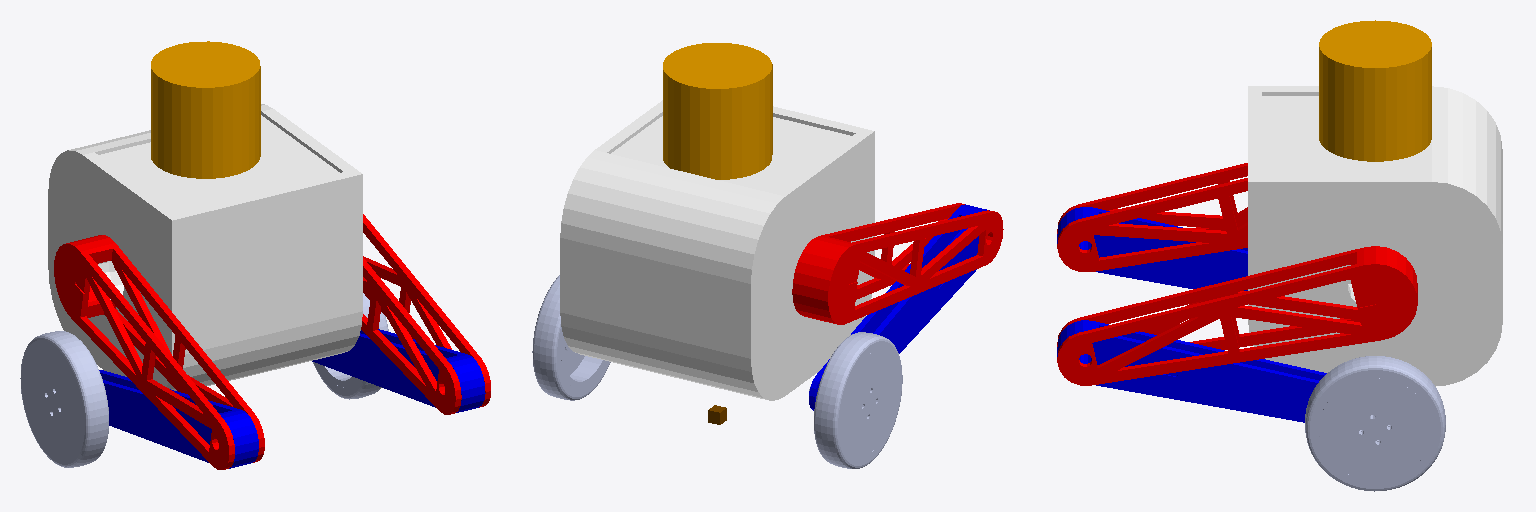
The robot description file, URDF, robot "wbrobot":
<?xml version="1.0" encoding="utf-8"?>
<!-- This URDF was automatically created by SolidWorks to URDF Exporter! Originally created by [author] ([email redacted]) 
     Commit Version: 1.6.0-1-g15f4949  Build Version: 1.6.7594.29634
     For more information, please see http://wiki.ros.org/sw_urdf_exporter -->
<robot
  name="wbrobot">
  <link name="world_link" >
    <visual>
        <geometry>
            <box size = "0.01 0.01 0.01" />
        </geometry>
        <origin xyz="0 0 0" rpy="0 0 0"/>
        <material name="yellow">
            <color rgba="0.5 0.3 0 0.5"/>
        </material>
        
    </visual>
    <!--collision>
      <origin
        xyz="0 0 0"
        rpy="0 0 0" />
      <geometry>
        <box size = "1 1 0.01" />
      </geometry>
    </collision-->
  </link>
  <link
    name="base_link">
    <inertial>
      <origin
        xyz="-1.5843E-17 -0.0018258 -0.00076631"
        rpy="0 0 0" />
      <mass
        value="8" />
      <inertia
        ixx="0.052838"
        ixy="0"
        ixz="0"
        iyy="0.04905"
        iyz="-0.0011035"
        izz="0.055787" />
    </inertial>
    <visual>
      <origin
        xyz="0 0 0"
        rpy="0 0 0" />
      <geometry>
        <mesh
          filename="package://robot_description/meshes/base_link.STL" />
      </geometry>
      <material
        name="">
        <color
          rgba="1 1 1 1" />
      </material>
    </visual>
    <collision>
      <origin
        xyz="0 0 0"
        rpy="0 0 0" />
      <geometry>
        <mesh
          filename="package://robot_description/meshes/base_link.STL" />
      </geometry>
    </collision>
  </link>

  <!--world_joint-->
  <joint name="world_joint" type="fixed">
    <origin xyz="0 0 0.13" rpy="0 0 0"/>
    <parent link="world_link"/>
    <child link="base_link"/>
  </joint>

  <link
    name="datui1_Link">
    <inertial>
      <origin
        xyz="0.015766 -0.072335 -3.2958E-05"
        rpy="0 0 0" />
      <mass
        value="0.090996" />
      <inertia
        ixx="0.00063669"
        ixy="5.1817E-06"
        ixz="0"
        iyy="3.9867E-05"
        iyz="-1.7891E-06"
        izz="0.00062095" />
    </inertial>
    <visual>
      <origin
        xyz="0 0 0"
        rpy="0 0 0" />
      <geometry>
        <mesh
          filename="package://robot_description/meshes/datui1_Link.STL" />
      </geometry>
      <material
        name="red">
        <color
          rgba="1 0 0 1" />
      </material>
    </visual>
    <collision>
      <origin
        xyz="0 0 0"
        rpy="0 0 0" />
      <geometry>
        <mesh
          filename="package://robot_description/meshes/datui1_Link.STL" />
      </geometry>
    </collision>
  </link>
  <joint
    name="datui1_joint"
    type="revolute">
    <origin
      xyz="-0.08 0 0"
      rpy="2.923 0 3.1416" />
    <parent
      link="base_link" />
    <child
      link="datui1_Link" />
    <axis
      xyz="-1 0 0" />
    <limit
      lower="0"
      upper="3.14"
      effort="200"
      velocity="20" />
  </joint>
  <link
    name="xiaotui1_Link">
    <inertial>
      <origin
        xyz="-0.010009 -0.087975 0"
        rpy="0 0 0" />
      <mass
        value="0.089561" />
      <inertia
        ixx="0.00045806"
        ixy="1.3763E-07"
        ixz="0"
        iyy="1.4234E-05"
        iyz="0"
        izz="0.00045351" />
    </inertial>
    <visual>
      <origin
        xyz="0 0 0"
        rpy="0 0 0" />
      <geometry>
        <mesh
          filename="package://robot_description/meshes/xiaotui1_Link.STL" />
      </geometry>
      <material
        name="blue">
        <color
          rgba="0 0 1 1" />
      </material>
    </visual>
    <collision>
      <origin
        xyz="0 0 0"
        rpy="0 0 0" />
      <geometry>
        <mesh
          filename="package://robot_description/meshes/xiaotui1_Link.STL" />
      </geometry>
    </collision>
  </link>
  <joint
    name="xiaotui1_joint"
    type="revolute">
    <origin
      xyz="0.005 -0.21 0"
      rpy="-0.43633 0 3.1416" />
    <parent
      link="datui1_Link" />
    <child
      link="xiaotui1_Link" />
    <axis
      xyz="-1 0 0" />
    <limit
      lower="0"
      upper="3.14"
      effort="200"
      velocity="20" />
  </joint>
  <link
    name="wheel1_Link">
    <inertial>
      <origin
        xyz="-0.033743 -4.0891E-11 -1.451E-11"
        rpy="0 0 0" />
      <mass
        value="0.10249" />
      <inertia
        ixx="0.00015426"
        ixy="0"
        ixz="0"
        iyy="8.0659E-05"
        iyz="0"
        izz="8.066E-05" />
    </inertial>
    <visual>
      <origin
        xyz="0 0 0"
        rpy="0 0 0" />
      <geometry>
        <mesh
          filename="package://robot_description/meshes/wheel1_Link.STL" />
      </geometry>
      <material
        name="">
        <color
          rgba="0.79216 0.81961 0.93333 1" />
      </material>
    </visual>
    <collision>
      <origin
        xyz="0 0 0"
        rpy="0 0 0" />
      <geometry>
        <mesh
          filename="package://robot_description/meshes/wheel1_Link.STL" />
      </geometry>
    </collision>
  </link>
  <joint
    name="wheel1_joint"
    type="continuous">
    <origin
      xyz="0 -0.21 0"
      rpy="-1.1611 0 0" />
    <parent
      link="xiaotui1_Link" />
    <child
      link="wheel1_Link" />
    <axis
      xyz="-1 0 0" />
    <dynamics damping="0.05"/>
    <limit
      effort="200"
      velocity="20" />
  </joint>
  <link
    name="datui2_Link">
    <inertial>
      <origin
        xyz="0.015766 -0.072335 -3.296E-05"
        rpy="0 0 0" />
      <mass
        value="0.090996" />
      <inertia
        ixx="0.00063669"
        ixy="5.18E-06"
        ixz="0"
        iyy="3.987E-05"
        iyz="-1.79E-06"
        izz="0.00062095" />
    </inertial>
    <visual>
      <origin
        xyz="0 0 0"
        rpy="0 0 0" />
      <geometry>
        <mesh
          filename="package://robot_description/meshes/datui2_Link.STL" />
      </geometry>
      <material
        name="red">
        <color
          rgba="1 0 0 1" />
      </material>
    </visual>
    <collision>
      <origin
        xyz="0 0 0"
        rpy="0 0 0" />
      <geometry>
        <mesh
          filename="package://robot_description/meshes/datui2_Link.STL" />
      </geometry>
    </collision>
  </link>
  <joint
    name="datui2_joint"
    type="revolute">
    <origin
      xyz="0.08 0 0"
      rpy="0.218 0 0" />
    <parent
      link="base_link" />
    <child
      link="datui2_Link" />
    <axis
      xyz="1 0 0" />
    <limit
      lower="0"
      upper="3.14"
      effort="200"
      velocity="20" />
  </joint>
  <link
    name="xiaotui2_Link">
    <inertial>
      <origin
        xyz="-0.010009 -0.087975 0"
        rpy="0 0 0" />
      <mass
        value="0.089561" />
      <inertia
        ixx="0.00045806"
        ixy="1.3763E-07"
        ixz="0"
        iyy="1.4234E-05"
        iyz="0"
        izz="0.00045351" />
    </inertial>
    <visual>
      <origin
        xyz="0 0 0"
        rpy="0 0 0" />
      <geometry>
        <mesh
          filename="package://robot_description/meshes/xiaotui2_Link.STL" />
      </geometry>
      <material
        name="blue">
        <color
          rgba="0 0 1 1" />
      </material>
    </visual>
    <collision>
      <origin
        xyz="0 0 0"
        rpy="0 0 0" />
      <geometry>
        <mesh
          filename="package://robot_description/meshes/xiaotui2_Link.STL" />
      </geometry>
    </collision>
  </link>
  <joint
    name="xiaotui2_joint"
    type="revolute">
    <origin
      xyz="0.005 -0.21 0"
      rpy="0.43633 0 3.1416" />
    <parent
      link="datui2_Link" />
    <child
      link="xiaotui2_Link" />
    <axis
      xyz="1 0 0" />
    <limit
      lower="0"
      upper="3.14"
      effort="200"
      velocity="20" />
  </joint>
  <link
    name="wheel2_Link">
    <inertial>
      <origin
        xyz="-0.033743 -4.089E-11 -1.451E-11"
        rpy="0 0 0" />
      <mass
        value="0.10249" />
      <inertia
        ixx="0.00015426"
        ixy="0"
        ixz="0"
        iyy="8.0659E-05"
        iyz="0"
        izz="8.066E-05" />
    </inertial>
    <visual>
      <origin
        xyz="0 0 0"
        rpy="0 0 0" />
      <geometry>
        <mesh
          filename="package://robot_description/meshes/wheel2_Link.STL" />
      </geometry>
      <material
        name="">
        <color
          rgba="0.79216 0.81961 0.93333 1" />
      </material>
    </visual>
    <collision>
      <origin
        xyz="0 0 0"
        rpy="0 0 0" />
      <geometry>
        <mesh
          filename="package://robot_description/meshes/wheel2_Link.STL" />
      </geometry>
    </collision>
  </link>
  <joint
    name="wheel2_joint"
    type="continuous">
    <origin
      xyz="0 -0.21 0"
      rpy="-1.9805 0 0" />
    <parent
      link="xiaotui2_Link" />
    <child
      link="wheel2_Link" />
    <axis
      xyz="1 0 0" />
    <dynamics damping="0.05"/>
    <limit
      effort="200"
      velocity="20" />
  </joint>
  <!--传动-->
  <transmission name="datui1_joint_trans">
    <type>transmission_interface/SimpleTransmission</type>
    <joint name="datui1_joint">
      <hardwareInterface>hardware_interface/PositionJointInterface</hardwareInterface>
    </joint>
    <actuator name="$datui1_joint_motor">
      <hardwareInterface>hardware_interface/PositionJointInterface</hardwareInterface>
      <mechanicalReduction>1</mechanicalReduction>
    </actuator>
  </transmission>

  <transmission name="xiaotui1_joint_trans">
    <type>transmission_interface/SimpleTransmission</type>
    <joint name="xiaotui1_joint">
      <hardwareInterface>hardware_interface/PositionJointInterface</hardwareInterface>
    </joint>
    <actuator name="$xiaotui1_joint_motor">
      <hardwareInterface>hardware_interface/PositionJointInterface</hardwareInterface>
      <mechanicalReduction>1</mechanicalReduction>
    </actuator>
  </transmission>

  <transmission name="wheel1_joint_trans">
    <type>transmission_interface/SimpleTransmission</type>
    <joint name="wheel1_joint">
      <hardwareInterface>hardware_interface/EffortJointInterface</hardwareInterface>
    </joint>
    <actuator name="$wheel1_joint_motor">
      <hardwareInterface>hardware_interface/EffortJointInterface</hardwareInterface>
      <mechanicalReduction>1</mechanicalReduction>
    </actuator>
  </transmission>

  <transmission name="datui2_joint_trans">
    <type>transmission_interface/SimpleTransmission</type>
    <joint name="datui2_joint">
      <hardwareInterface>hardware_interface/PositionJointInterface</hardwareInterface>
    </joint>
    <actuator name="$datui2_joint_motor">
      <hardwareInterface>hardware_interface/PositionJointInterface</hardwareInterface>
      <mechanicalReduction>1</mechanicalReduction>
    </actuator>
  </transmission>

  <transmission name="xiaotui2_joint_trans">
    <type>transmission_interface/SimpleTransmission</type>
    <joint name="xiaotui2_joint">
      <hardwareInterface>hardware_interface/PositionJointInterface</hardwareInterface>
    </joint>
    <actuator name="$xiaotui2_joint_motor">
      <hardwareInterface>hardware_interface/PositionJointInterface</hardwareInterface>
      <mechanicalReduction>1</mechanicalReduction>
    </actuator>
  </transmission>

  <transmission name="wheel2_joint_trans">
    <type>transmission_interface/SimpleTransmission</type>
    <joint name="wheel2_joint">
      <hardwareInterface>hardware_interface/EffortJointInterface</hardwareInterface>
    </joint>
    <actuator name="$wheel2_joint_motor">
      <hardwareInterface>hardware_interface/EffortJointInterface</hardwareInterface>
      <mechanicalReduction>1</mechanicalReduction>
    </actuator>
  </transmission>
  
  <!--Gazebo Plugin for ROS Control-->
  <!--This allows for other ROS to interact with 
      Gazebo in a generic way.-->
  <gazebo>
    <plugin name="gazebo_ros_control" filename="libgazebo_ros_control.so">
      <robotNamespace>/</robotNamespace>
    </plugin>
  </gazebo>
  <gazebo reference="base_link">
    <gravity>true</gravity>
    <sensor name="imu_sensor" type="imu">
      <always_on>true</always_on>
      <update_rate>800</update_rate>
      <visualize>true</visualize>
      <topic>__default_topic__</topic>
      <plugin filename="libgazebo_ros_imu_sensor.so" name="imu_plugin">
        <topicName>imu</topicName>
        <bodyName>base_link</bodyName>
        <updateRateHZ>800</updateRateHZ>
        <gaussianNoise>0.0</gaussianNoise>
        <xyzOffset>0 0 0</xyzOffset>
        <rpyOffset>0 0 0</rpyOffset>
        <frameName>base_link</frameName>
        <initialOrientationAsReference>false</initialOrientationAsReference>
      </plugin>
      <pose>0 0 0 0 0 0</pose>
    </sensor>
  </gazebo>

  <gazebo reference="wheel1_Link">
    <mu2 value="100.0"/>
    <kp value="10000000.0" />
    <kd value="1.0" />
    <material>Gazebo/Red</material>
  </gazebo>

    <gazebo reference="wheel2_Link">
    <mu2 value="100.0"/>
    <kp value="10000000.0" />
    <kd value="1.0" />
    <material>Gazebo/Red</material>
  </gazebo>

  <gazebo reference="datui1_Link">
    <material>Gazebo/Red</material>
  </gazebo>

  <gazebo reference="datui2_Link">
    <material>Gazebo/Red</material>
  </gazebo>

  <gazebo reference="xiaotui1_Link">
    <material>Gazebo/Blue</material>
  </gazebo>
  <gazebo reference="xiaotui2_Link">
    <material>Gazebo/Blue</material>
  </gazebo>

 <joint name="hokuyo_joint" type="fixed">
    <axis xyz="0 1 0" />
    <origin xyz="0 0 0.1" rpy="0 0 1.57"/>
    <parent link="base_link"/>
    <child link="hokuyo_link"/>
  </joint>

  <!-- Hokuyo Laser -->
  <link name="hokuyo_link">
    <collision>
      <origin xyz="0 0 0" rpy="0 0 0"/>
      <geometry>
        <box size="0.1 0.1 0.1"/>
      </geometry>
    </collision>

    <visual>
      <origin xyz="0 0 0" rpy="0 0 0"/>
      <geometry>
        <cylinder radius="0.04" length="0.1"/> 
      </geometry>
    </visual>

    <inertial>
      <mass value="0" />
      <origin xyz="0 0 0" rpy="0 0 0"/>
      <inertia ixx="0" ixy="0" ixz="0" iyy="0" iyz="0" izz="0" />
    </inertial>
  </link>

   <!-- hokuyo -->
  <gazebo reference="hokuyo_link">
    <sensor type="ray" name="head_hokuyo_sensor">
      <pose>0 0 0 0 0 0</pose>
      <visualize>true</visualize>
      <update_rate>40</update_rate>
      <ray>
        <scan>
          <horizontal>
            <samples>720</samples>
            <resolution>1</resolution>
            <min_angle>-1.570796</min_angle>
            <max_angle>1.570796</max_angle>
          </horizontal>
        </scan>
        <range>
          <min>0.10</min>
          <max>5</max>
          <resolution>0.01</resolution>
        </range>
        <noise>
          <type>gaussian</type>
          <!-- Noise parameters based on published spec for Hokuyo laser
               achieving "+-30mm" accuracy at range < 10m.  A mean of 0.0m and
               stddev of 0.01m will put 99.7% of samples within 0.03m of the true
               reading. -->
          <mean>0.0</mean>
          <stddev>0.01</stddev>
        </noise>
      </ray>
      <plugin name="gazebo_ros_head_hokuyo_controller" filename="libgazebo_ros_laser.so">
        <topicName>/scan</topicName>
        <frameName>hokuyo_link</frameName>
      </plugin>
    </sensor>
  </gazebo>
</robot>

--- Render facts (derived) ---
3 views of the same robot in one strip: view 1: azimuth 30°, elevation 25°; view 2: azimuth 150°, elevation 25°; view 3: azimuth 270°, elevation 25° (orthographic).
Model wbrobot with 9 links and 8 joints (4 revolute, 2 continuous, 2 fixed), rooted at world_link, posed all joints at 0.
Visible links, largest first — view 1: base_link, datui1_Link, hokuyo_link, wheel1_Link, datui2_Link, xiaotui1_Link, xiaotui2_Link, wheel2_Link; view 2: base_link, datui1_Link, hokuyo_link, wheel1_Link, xiaotui1_Link, wheel2_Link; view 3: base_link, datui2_Link, wheel2_Link, hokuyo_link, datui1_Link, xiaotui2_Link, xiaotui1_Link.
Boxes of the visible links, x1=… form: base_link: x1=48, y1=104, x2=362, y2=390; datui1_Link: x1=54, y1=235, x2=264, y2=469; hokuyo_link: x1=151, y1=41, x2=260, y2=178; wheel1_Link: x1=20, y1=331, x2=108, y2=467; datui2_Link: x1=361, y1=214, x2=490, y2=414; xiaotui1_Link: x1=99, y1=370, x2=258, y2=468; xiaotui2_Link: x1=312, y1=329, x2=485, y2=412; wheel2_Link: x1=313, y1=293, x2=388, y2=399; base_link: x1=560, y1=100, x2=874, y2=400; datui1_Link: x1=792, y1=203, x2=1003, y2=324; hokuyo_link: x1=663, y1=43, x2=772, y2=179; wheel1_Link: x1=809, y1=332, x2=902, y2=468; xiaotui1_Link: x1=809, y1=204, x2=989, y2=410; wheel2_Link: x1=532, y1=275, x2=610, y2=400; base_link: x1=1248, y1=86, x2=1502, y2=386; datui2_Link: x1=1057, y1=246, x2=1417, y2=385; wheel2_Link: x1=1305, y1=356, x2=1445, y2=491; hokuyo_link: x1=1319, y1=20, x2=1431, y2=161; datui1_Link: x1=1057, y1=163, x2=1247, y2=271; xiaotui2_Link: x1=1057, y1=320, x2=1326, y2=422; xiaotui1_Link: x1=1057, y1=207, x2=1247, y2=290.
Size in the robot's own frame: 0.256 by 0.315 by 0.2908 metres.
7 mesh visuals loaded from 7 distinct referenced files (7 binary STL).
